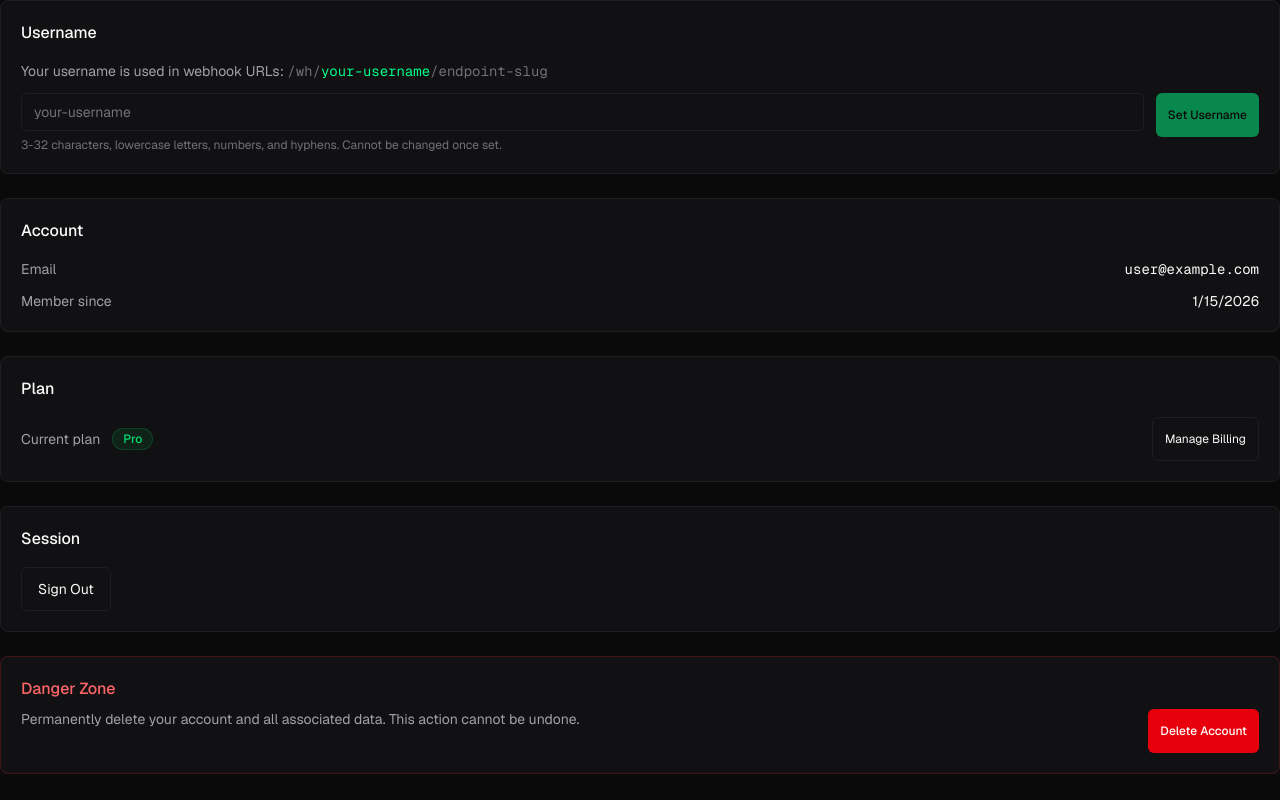
Scenario: SettingsClient › account deletion › shows pro subscription cancellation notice when plan is pro
Click the button "Delete Account": [1204, 731] box [1148,709,1259,753]
(page scrolled)
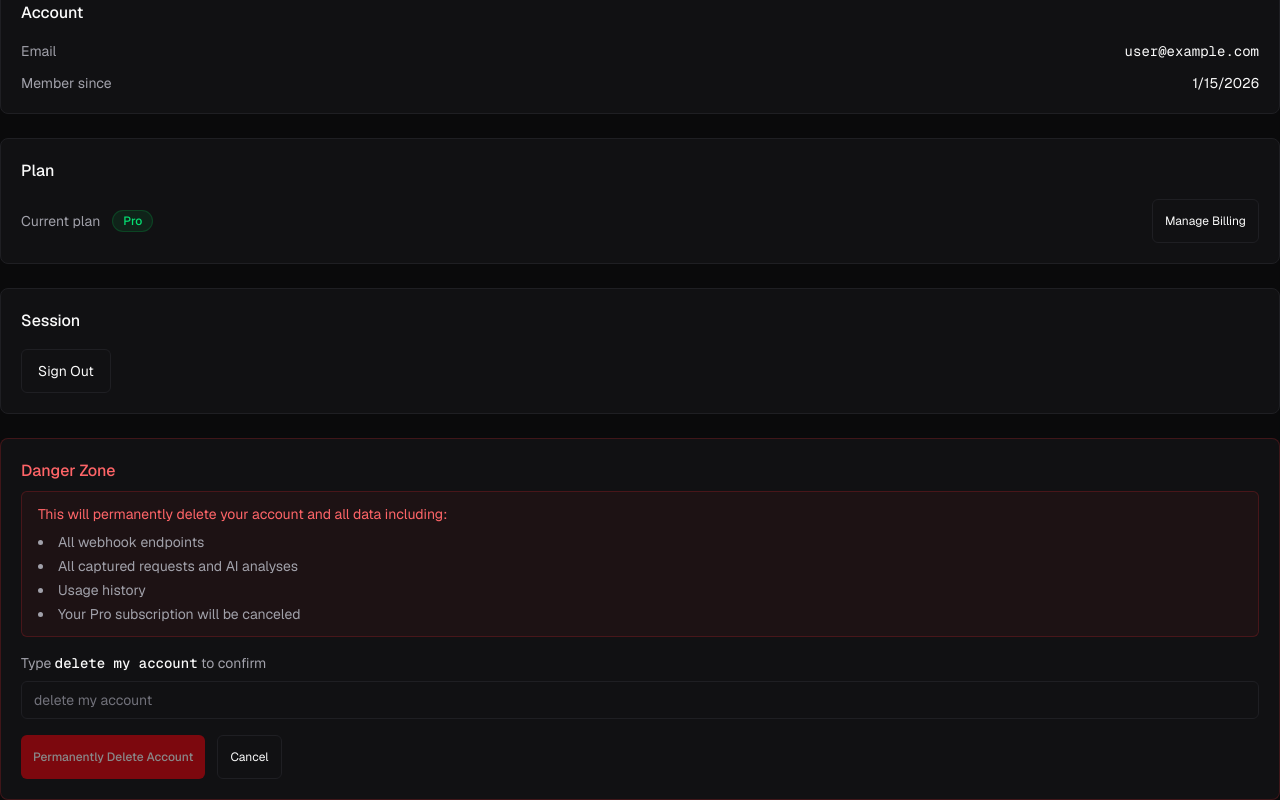
Result: the list item "Your Pro subscription will be canceled" is shown at [58,605,300,623]
